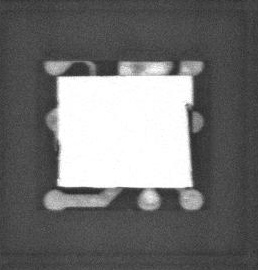DIE_BROKEN: (56, 78, 65, 186), (183, 99, 193, 187)
